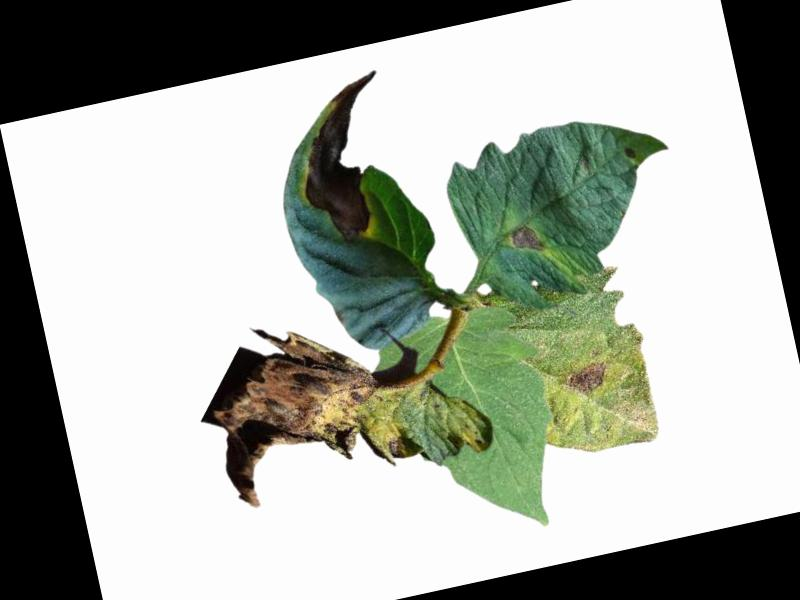Early_blight: (193, 310, 426, 511), (275, 69, 410, 250), (563, 359, 611, 400), (506, 222, 545, 259), (621, 144, 636, 161)
healthy: (364, 297, 573, 553)
